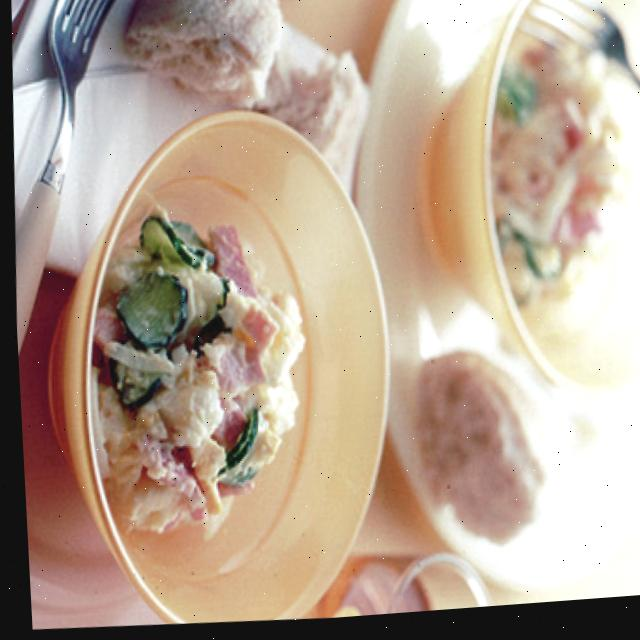蔬菜料理: (37, 123, 388, 633), (458, 0, 640, 395)
